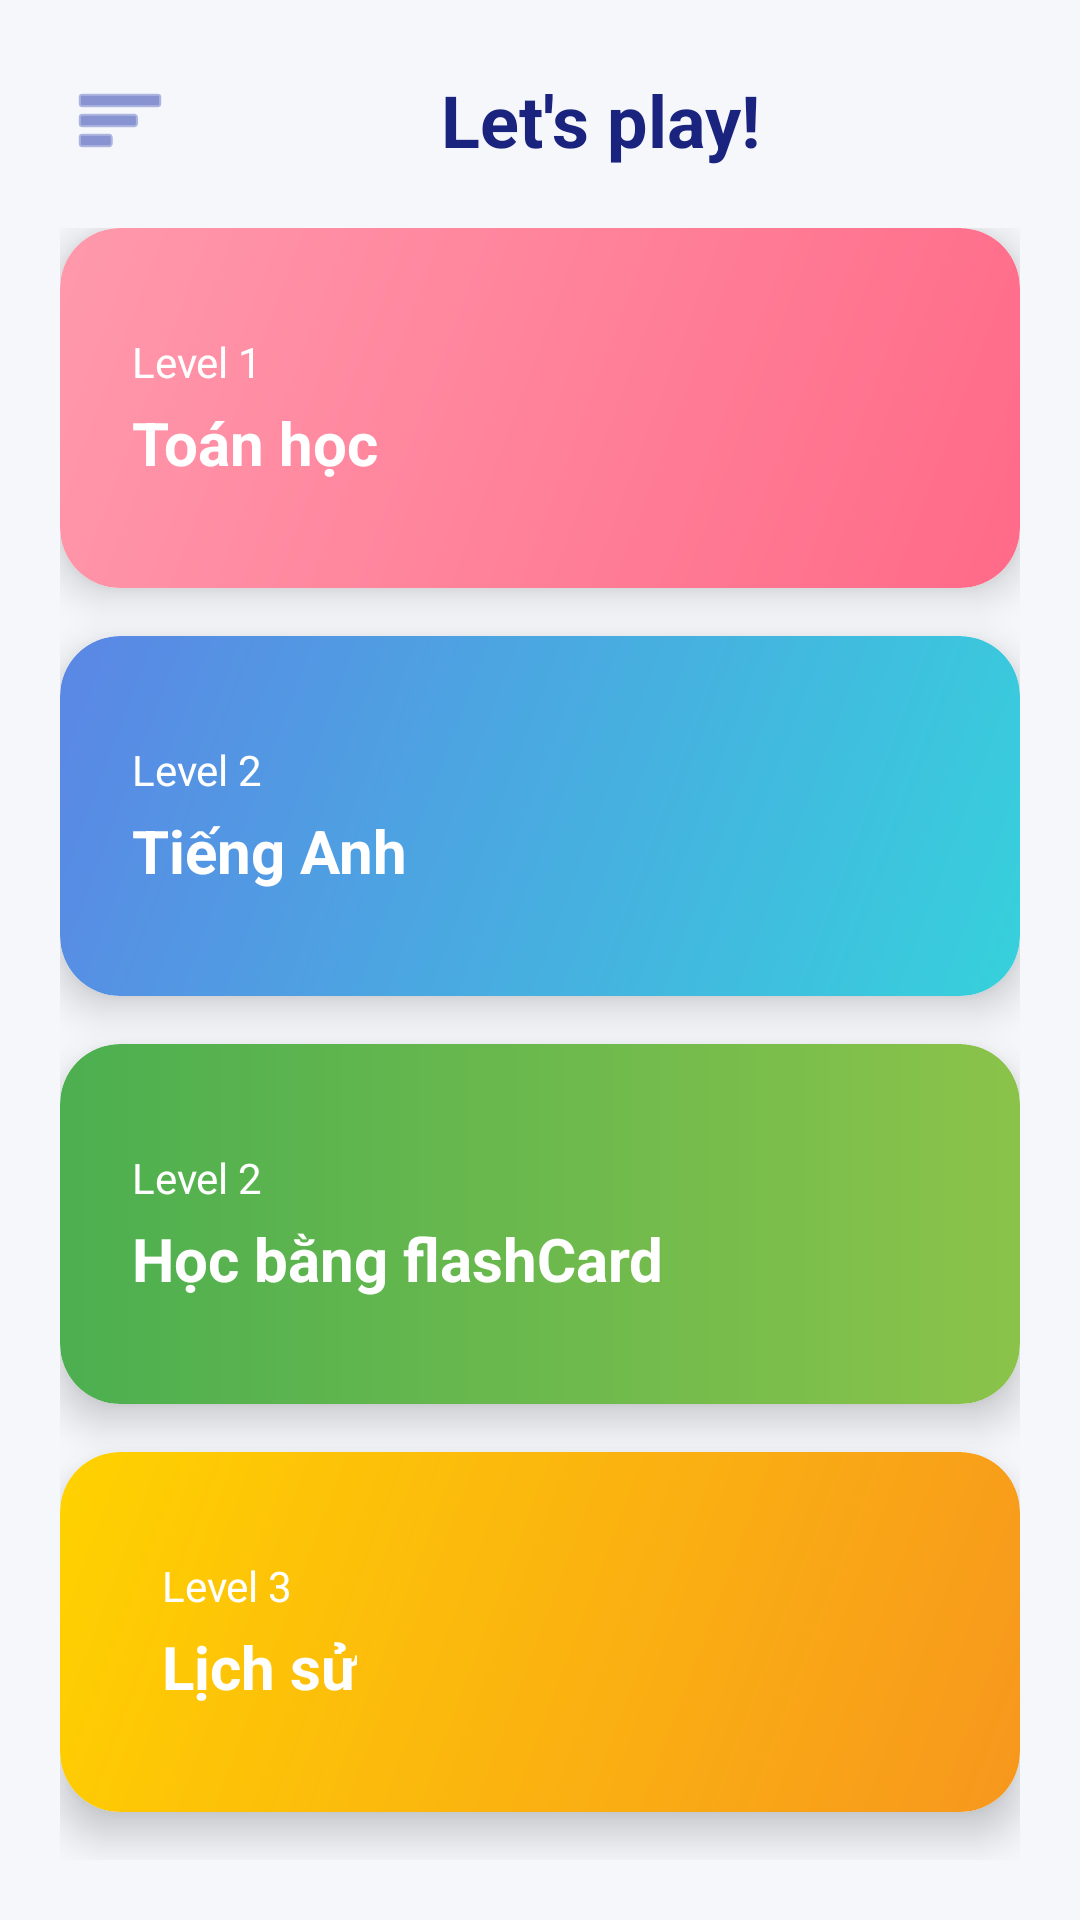

Icons on this 1080*1920 Android screen, each with its box as region(x1, y1, x2, y2):
sort by size: region(79, 94, 161, 147)
